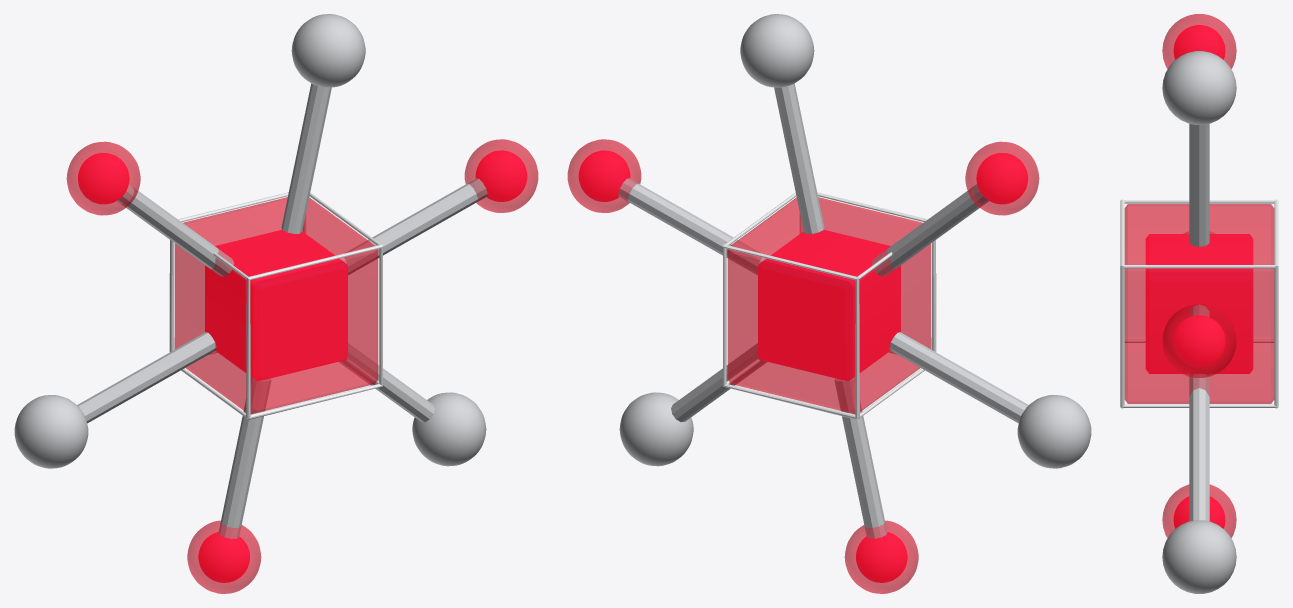
File: 36-connectors.glb
3 views of the same model, side by side, from view 1: azimuth 30°, elevation 25°; view 2: azimuth 150°, elevation 25°; view 3: azimuth 270°, elevation 25° (orthographic).
Visible parts, largest first — view 1: BC ruby optical glass, BC satin iron, BC internal ruby light, BC polished iron bevel; view 2: BC ruby optical glass, BC satin iron, BC internal ruby light, BC polished iron bevel; view 3: BC ruby optical glass, BC internal ruby light, BC satin iron, BC polished iron bevel.
Boxes of the visible parts, bbox=[...] form: BC ruby optical glass: bbox=[66, 139, 538, 593]; BC satin iron: bbox=[14, 14, 487, 538]; BC internal ruby light: bbox=[78, 150, 527, 582]; BC polished iron bevel: bbox=[169, 192, 382, 419]; BC ruby optical glass: bbox=[567, 139, 1039, 593]; BC satin iron: bbox=[618, 14, 1091, 538]; BC internal ruby light: bbox=[578, 150, 1027, 582]; BC polished iron bevel: bbox=[723, 192, 936, 419]; BC ruby optical glass: bbox=[1124, 14, 1274, 537]; BC internal ruby light: bbox=[1145, 25, 1253, 528]; BC satin iron: bbox=[1162, 51, 1236, 593]; BC polished iron bevel: bbox=[1120, 199, 1278, 408].
Size of the model in its own units: 2.25 by 2.29 by 0.5971.
